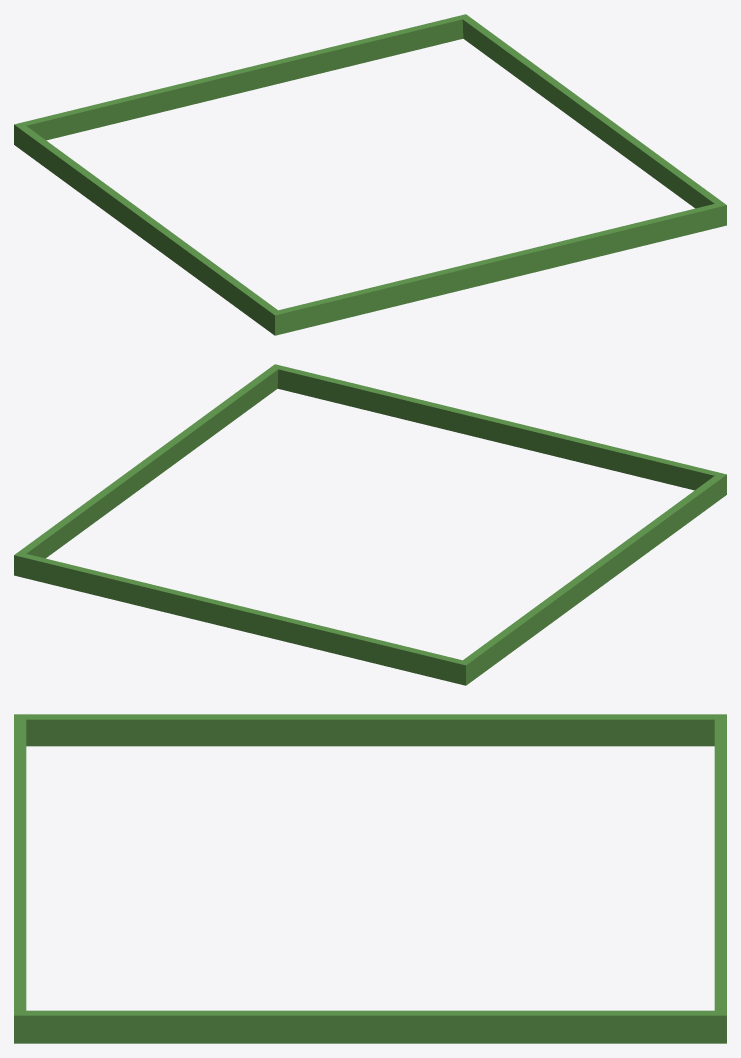
The model's file is highlighter.fbx.
3 views of the same model, one above another, from view 1: azimuth 30°, elevation 25°; view 2: azimuth 150°, elevation 25°; view 3: azimuth 270°, elevation 25° (orthographic). The views are drawn at different scales.
Parts seen in each view (by area): view 1: Cube.002; view 2: Cube.002; view 3: Cube.002.
Part boxes in pixels (x1=…): Cube.002: x1=14, y1=14, x2=726, y2=335; Cube.002: x1=14, y1=364, x2=726, y2=685; Cube.002: x1=14, y1=714, x2=726, y2=1043.
Size of the model in its own units: 288 by 288 by 12.38.
